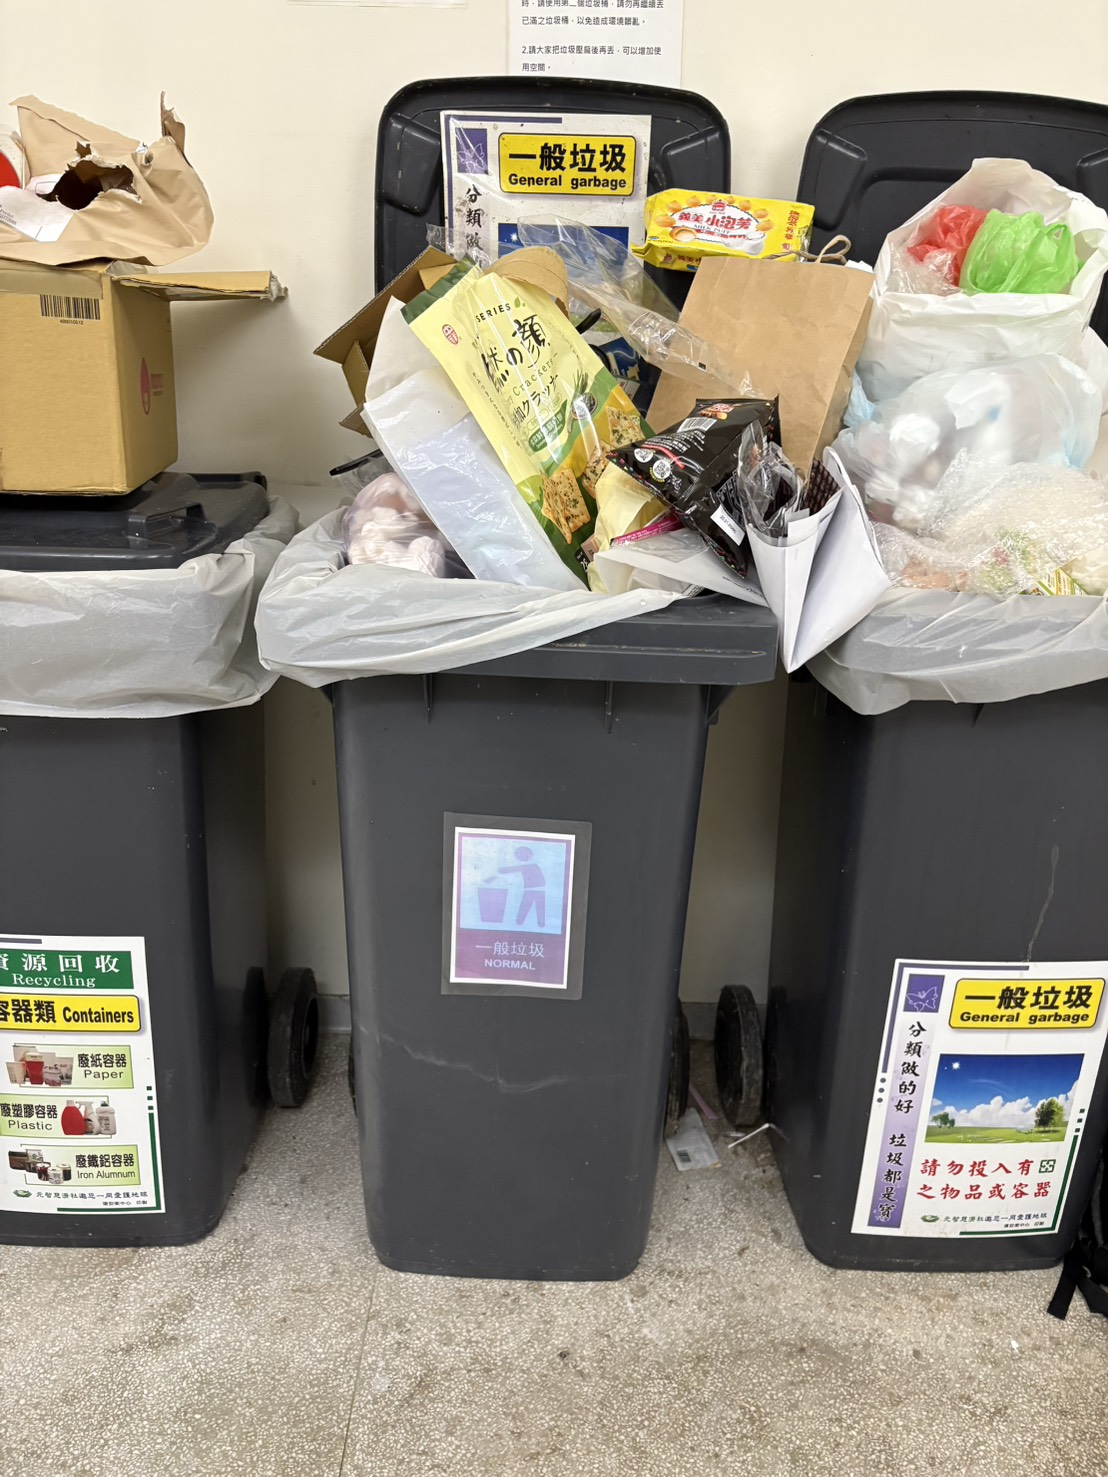overflow_bin: (267, 24, 900, 1298)
